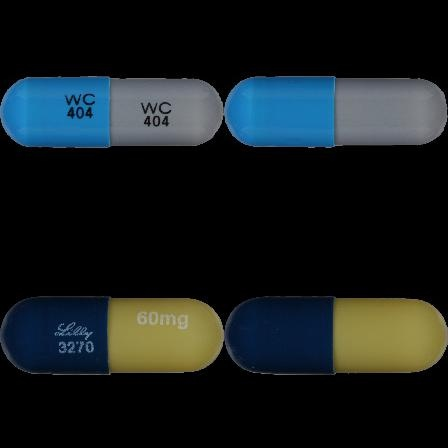55289-024: (0, 0, 224, 224)
